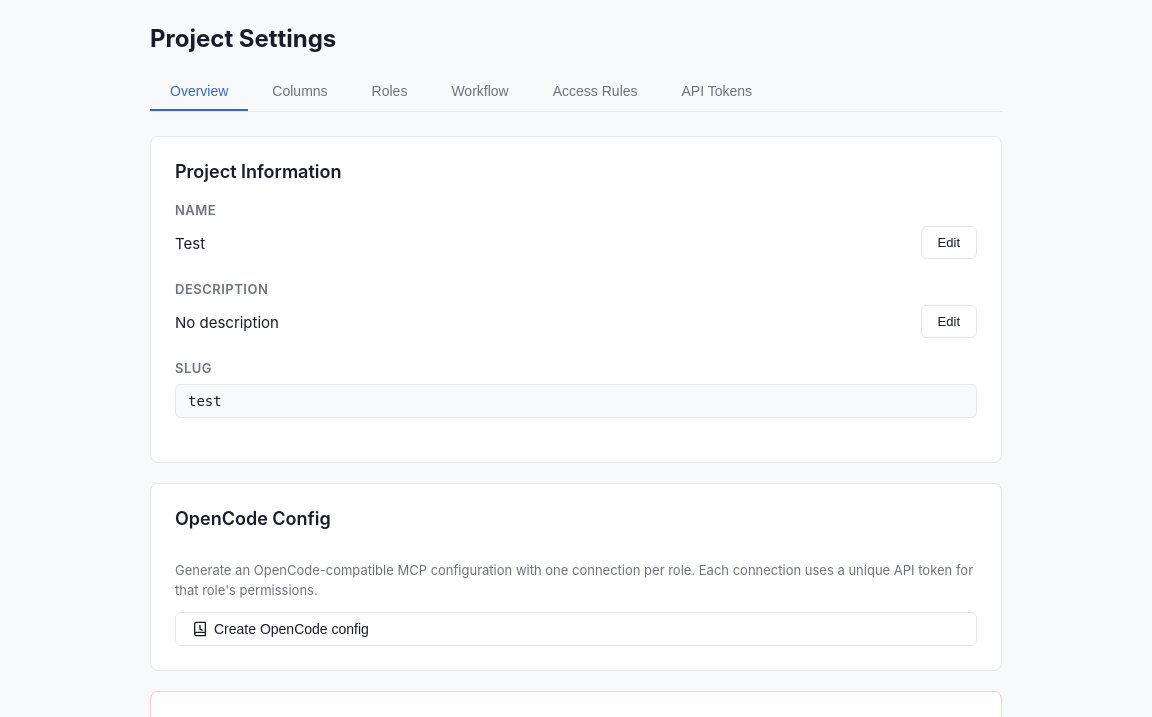
Test: Settings › shows empty state when no roles
Click the button with class "tab-btn" showing "Roles": (390, 92) [352,73,427,111]
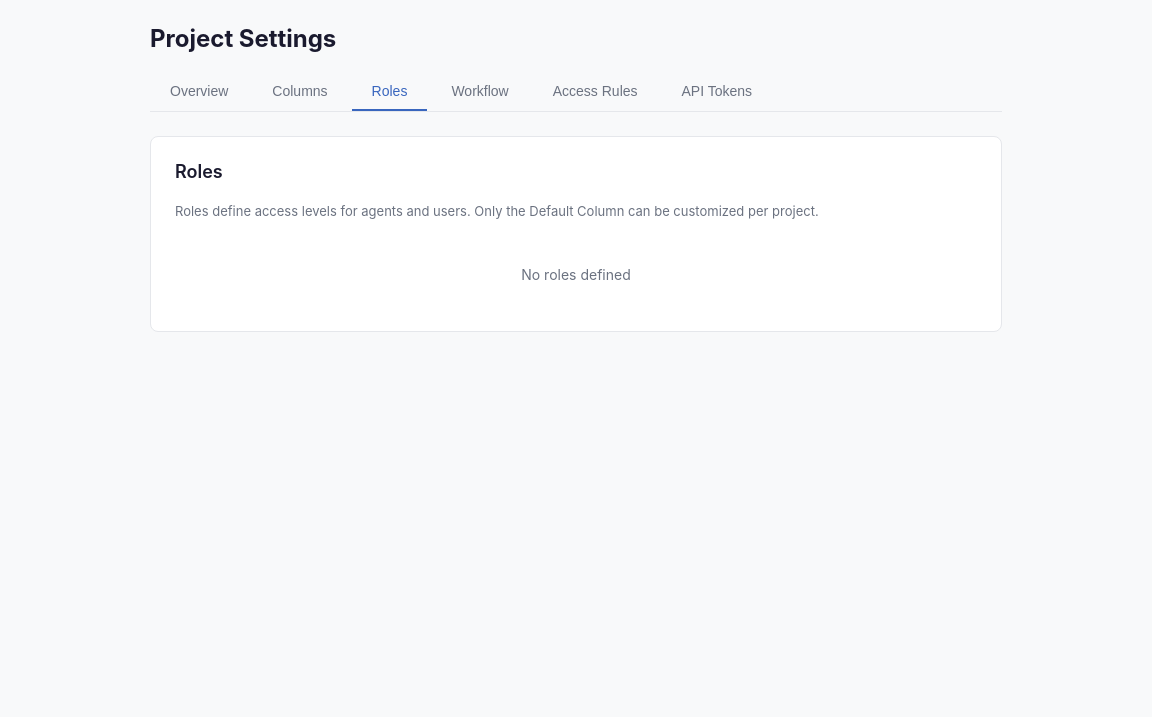
expect the text "No roles defined" is shown: met, box [521,266,631,282]
